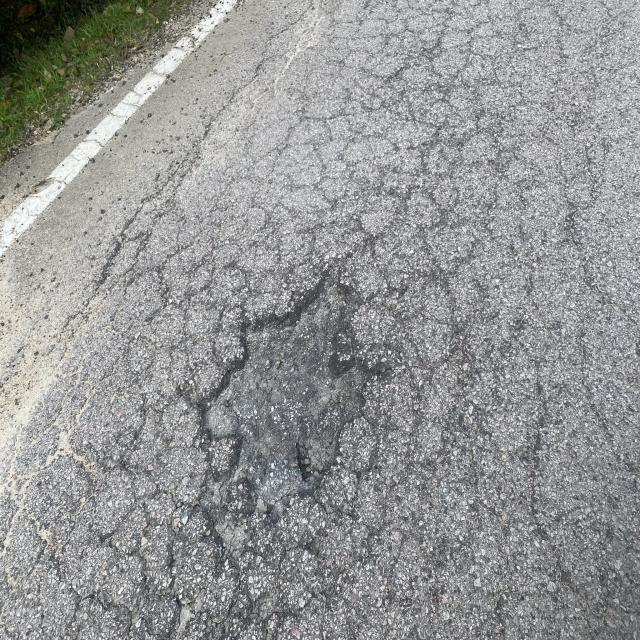pothole: (129, 242, 437, 559)
